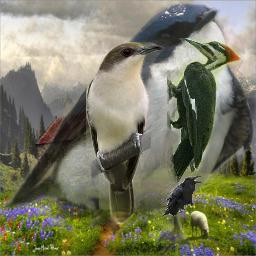Crow: (161, 176, 201, 218)
Cuckoo: (86, 42, 164, 226)
Swallow: (3, 2, 256, 255)
Woodpecker: (167, 38, 241, 183)
